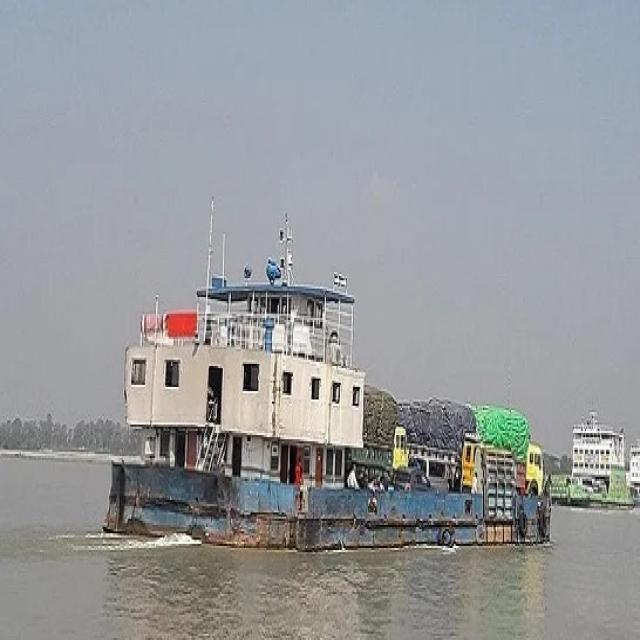cargoship: (89, 236, 548, 568), (562, 426, 638, 504)
